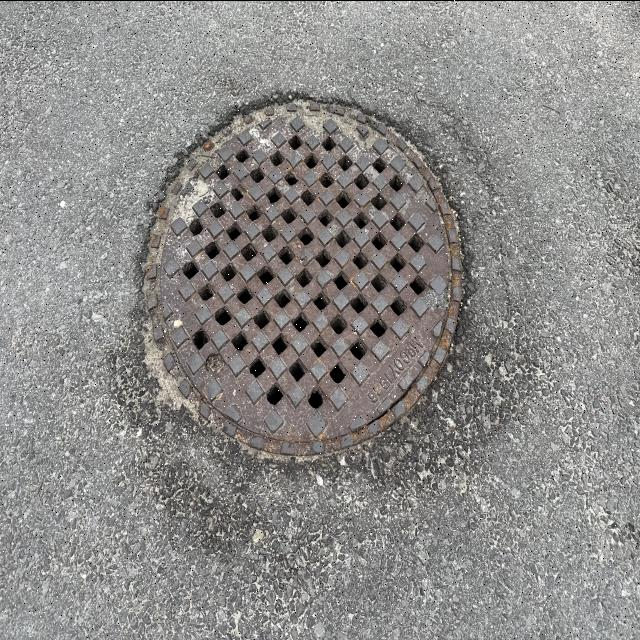Manhole: (125, 101, 454, 451)
